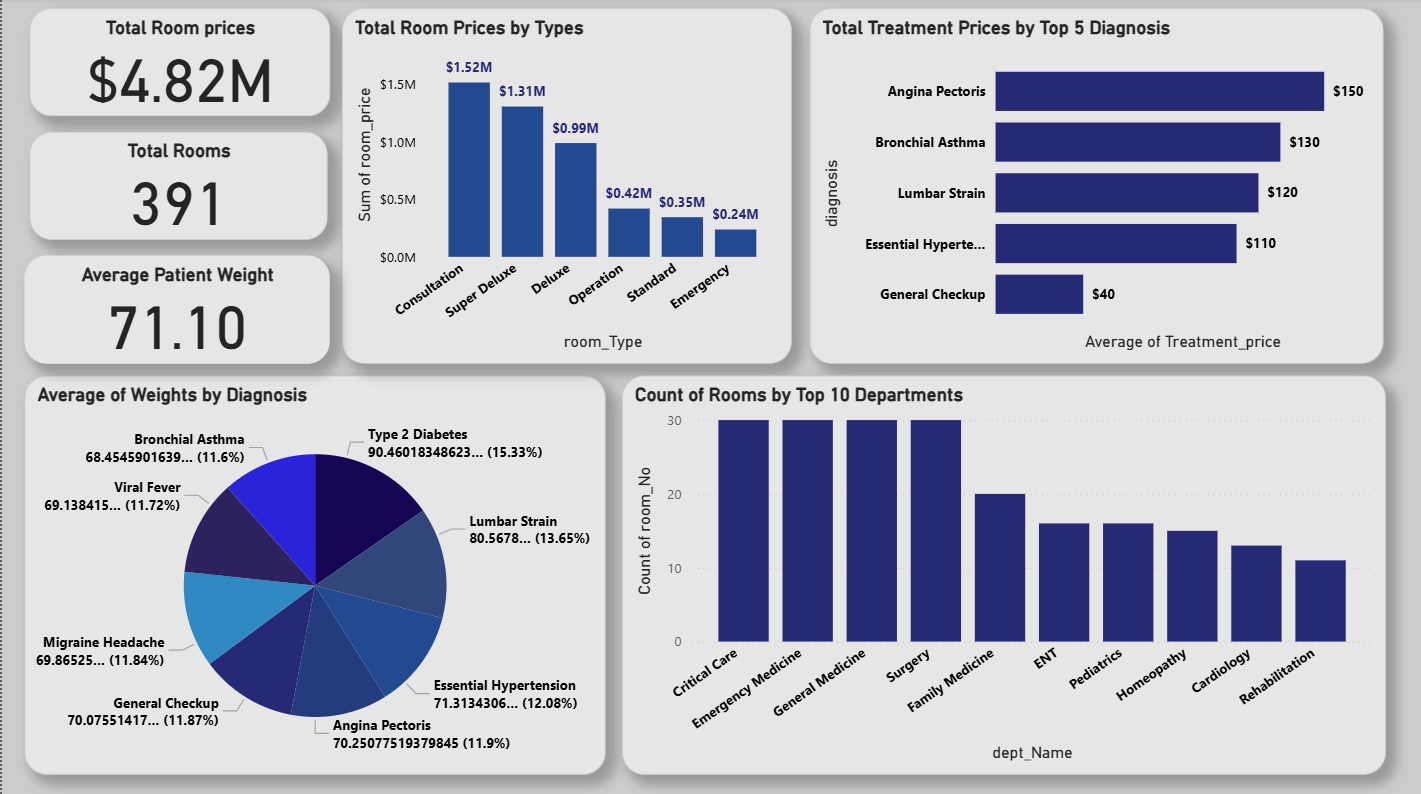

Layout of this report page (visuals, bound fields, positions):
{"tool":"powerbi","page":{"name":"4","canvas":[1280,720],"ordinal":3},"visuals":[{"type":"card","title":"Total Room prices","fields":{"Values":["Sum(Room.room_price)"]},"box":[24.4,9,271.1,97.6],"z":0},{"type":"card","title":"Total Rooms","fields":{"Values":["CountNonNull(Room.room_No)"]},"box":[24.4,120.8,268.5,97.6],"z":1000},{"type":"pieChart","title":"Average of Weights by Diagnosis","fields":{"Category":["MedicalRecords.diagnosis"],"Y":["Avg(MedicalRecords.curr_Weight)"]},"box":[20.6,340.4,524.1,359.7],"z":2000},{"type":"barChart","title":"Total Treatment Prices by Top 5 Diagnosis","fields":{"Category":["MedicalRecords.diagnosis"],"Y":["Avg(MedicalRecords.Treatment_price)"]},"box":[728.4,9,517.7,321.2],"z":3000},{"type":"columnChart","title":"Total Room Prices by Types","fields":{"Category":["Room.room_Type"],"Y":["Sum(Room.room_price)"]},"box":[307,9,405.9,321.2],"z":4000},{"type":"columnChart","title":"Count of Rooms by Top 10 Departments","fields":{"Category":["Department.dept_Name"],"Y":["CountNonNull(Room.room_No)"]},"box":[558.8,340.4,688.6,359.7],"z":5000},{"type":"card","title":"Average Patient Weight","fields":{"Values":["Avg(MedicalRecords.curr_Weight)"]},"box":[20.6,232.5,274.9,97.6],"z":8000}]}

Visuals, with their boxes in screenshot pixels (x1, y1, x2, y2), scaled from the page's 1280x720 canvas onto the 1421x794 screenshot:
"Total Room prices" card: {"left": 27, "top": 10, "right": 328, "bottom": 118}
"Total Rooms" card: {"left": 27, "top": 133, "right": 325, "bottom": 241}
"Average of Weights by Diagnosis" pieChart: {"left": 23, "top": 375, "right": 605, "bottom": 772}
"Total Treatment Prices by Top 5 Diagnosis" barChart: {"left": 809, "top": 10, "right": 1383, "bottom": 364}
"Total Room Prices by Types" columnChart: {"left": 341, "top": 10, "right": 791, "bottom": 364}
"Count of Rooms by Top 10 Departments" columnChart: {"left": 620, "top": 375, "right": 1385, "bottom": 772}
"Average Patient Weight" card: {"left": 23, "top": 256, "right": 328, "bottom": 364}
